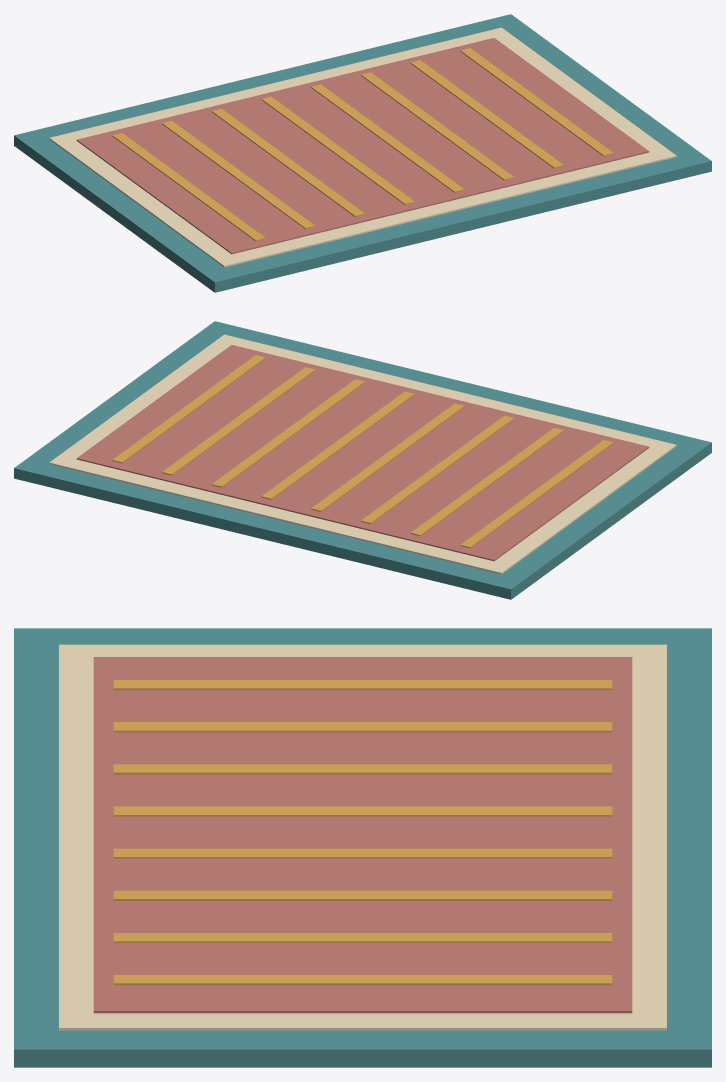
The model's file is SM_CH_Paper_Rug.fbx.
3 renders of one model, top to bottom at view 1: azimuth 30°, elevation 25°; view 2: azimuth 150°, elevation 25°; view 3: azimuth 270°, elevation 25°, orthographic. The views are drawn at different scales.
Parts seen in each view (by area): view 1: SM_CH_Paper_Rug; view 2: SM_CH_Paper_Rug; view 3: SM_CH_Paper_Rug.
Part boxes in pixels (box(x1,y1,x2,y2)): SM_CH_Paper_Rug: box(14, 14, 711, 292); SM_CH_Paper_Rug: box(14, 321, 711, 599); SM_CH_Paper_Rug: box(14, 628, 711, 1067).
Bounding box in the file's own units: 10000 × 7000 × 280.
